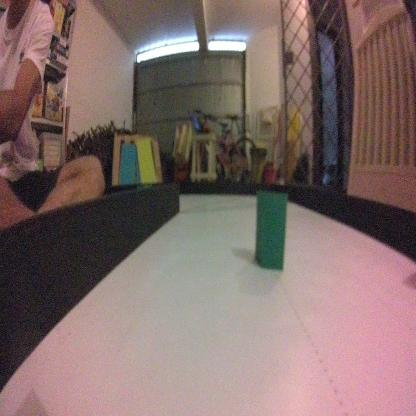green: (252, 184, 288, 276)
